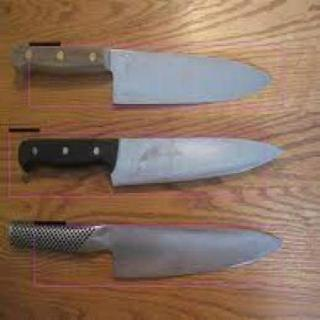knife: (58, 25, 272, 121), (76, 201, 286, 291), (71, 125, 287, 197)
